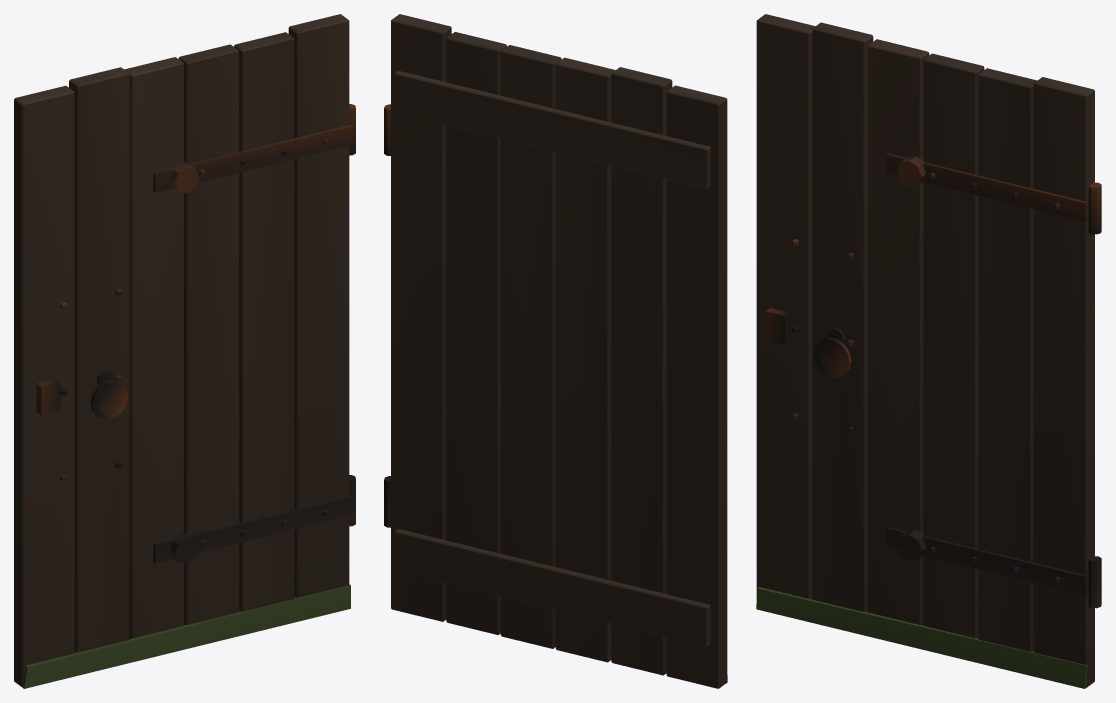
File: crane-crypt-door.glb
3 renders of one model, left to right at view 1: azimuth 30°, elevation 25°; view 2: azimuth 150°, elevation 25°; view 3: azimuth 330°, elevation 25°, orthographic.
Visible parts, largest first — view 1: crane-crypt-door-wood, crane-crypt-door-iron, crane-crypt-door-moss; view 2: crane-crypt-door-wood, crane-crypt-door-iron; view 3: crane-crypt-door-wood, crane-crypt-door-iron, crane-crypt-door-moss.
Boxes of the visible parts, x1,y1,x2,y2 form: crane-crypt-door-wood: [14, 14, 349, 687]; crane-crypt-door-iron: [36, 104, 355, 563]; crane-crypt-door-moss: [23, 584, 350, 688]; crane-crypt-door-wood: [391, 14, 727, 688]; crane-crypt-door-iron: [384, 104, 390, 527]; crane-crypt-door-wood: [756, 14, 1094, 687]; crane-crypt-door-iron: [765, 153, 1101, 608]; crane-crypt-door-moss: [756, 587, 1087, 688].
Size of the model in its own units: 1.23 by 2.05 by 0.1255.
